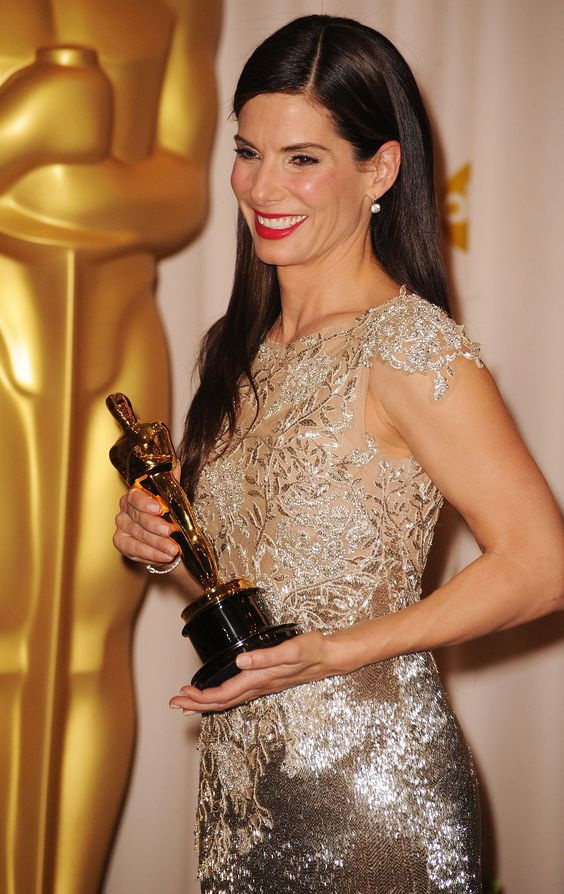hand: (118, 483, 179, 557)
